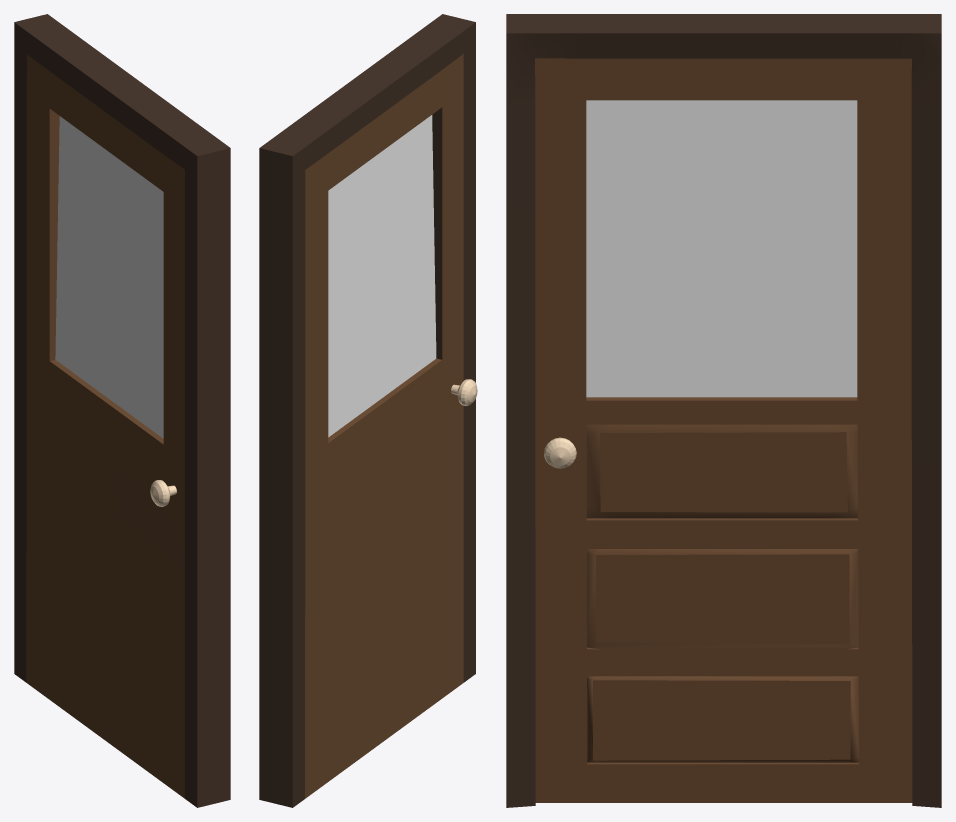
Rendered from PD_DoorWindow.fbx.
The picture shows the model from 3 angles, left to right: view 1: azimuth 30°, elevation 25°; view 2: azimuth 150°, elevation 25°; view 3: azimuth 270°, elevation 25°; orthographic projection. The views are drawn at different scales.
Visible parts, largest first — view 1: polySurface1; view 2: polySurface1; view 3: polySurface1.
Boxes of the visible parts, x1,y1,x2,y2 form: polySurface1: [14, 14, 230, 807]; polySurface1: [259, 14, 477, 807]; polySurface1: [506, 14, 941, 807].
Size of the model in its own units: 9.23 by 82.54 by 42.05.
